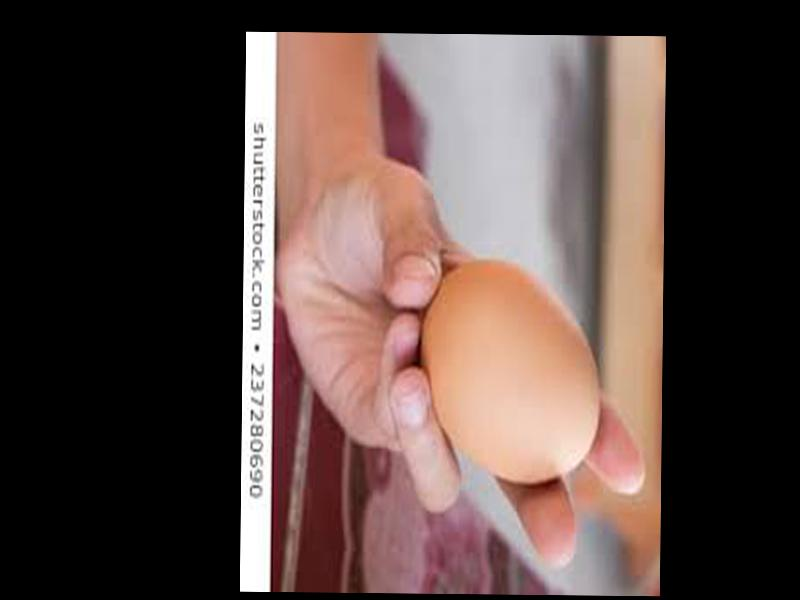Eggs: (420, 262, 600, 487)
